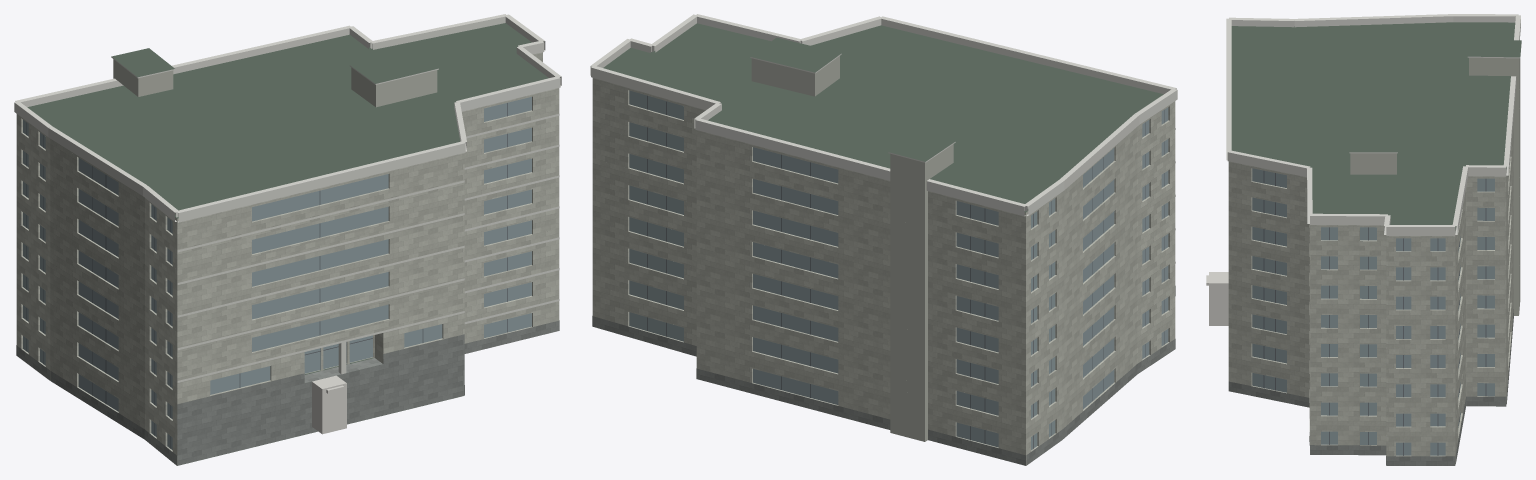
3 renders of one model, left to right at view 1: azimuth 30°, elevation 25°; view 2: azimuth 150°, elevation 25°; view 3: azimuth 270°, elevation 25°, orthographic. The views are drawn at different scales.
Visible parts, largest first — view 1: b506__wall, b506__roof, b506__glass, b506__trim, b506__base, b506__wall2, b506__entranceStair, b506__frame; view 2: b506__wall, b506__roof, b506__glass, b506__trim, b506__wall2, b506__base, b506__frame; view 3: b506__wall, b506__roof, b506__glass, b506__trim, b506__wall2, b506__base, b506__entranceStair, b506__frame.
Part boxes in pixels (x1,y1,x2,y2): b506__wall: [16, 52, 559, 465]; b506__roof: [27, 23, 548, 465]; b506__glass: [23, 97, 531, 449]; b506__trim: [14, 14, 561, 382]; b506__base: [16, 320, 559, 465]; b506__wall2: [113, 59, 437, 107]; b506__entranceStair: [312, 375, 346, 434]; b506__frame: [26, 103, 507, 448]; b506__wall: [592, 78, 1175, 465]; b506__roof: [603, 23, 1163, 212]; b506__glass: [629, 90, 1168, 450]; b506__trim: [590, 14, 1177, 263]; b506__wall2: [751, 56, 953, 441]; b506__base: [592, 286, 1175, 465]; b506__frame: [647, 95, 1164, 448]; b506__wall: [1228, 118, 1513, 463]; b506__roof: [1231, 22, 1521, 455]; b506__glass: [1252, 168, 1494, 455]; b506__trim: [1226, 14, 1521, 436]; b506__wall2: [1350, 57, 1520, 315]; b506__base: [1228, 309, 1513, 465]; b506__entranceStair: [1206, 272, 1228, 325]; b506__frame: [1263, 171, 1486, 455].
Size of the model in its own units: 56.3 by 31.97 by 35.23.
10 materials, 2 textured.
